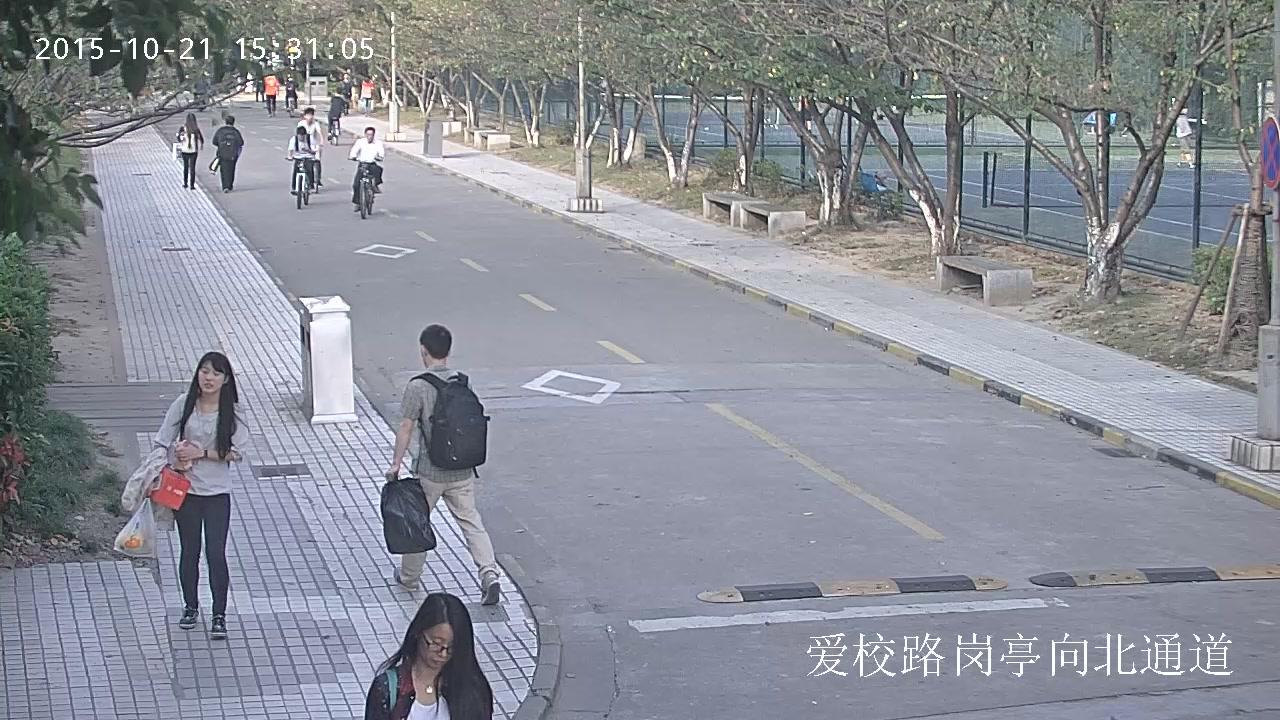face: (420, 624, 453, 670), (197, 359, 224, 392), (366, 129, 372, 139), (297, 132, 305, 139), (345, 67, 351, 74), (305, 114, 313, 119)
